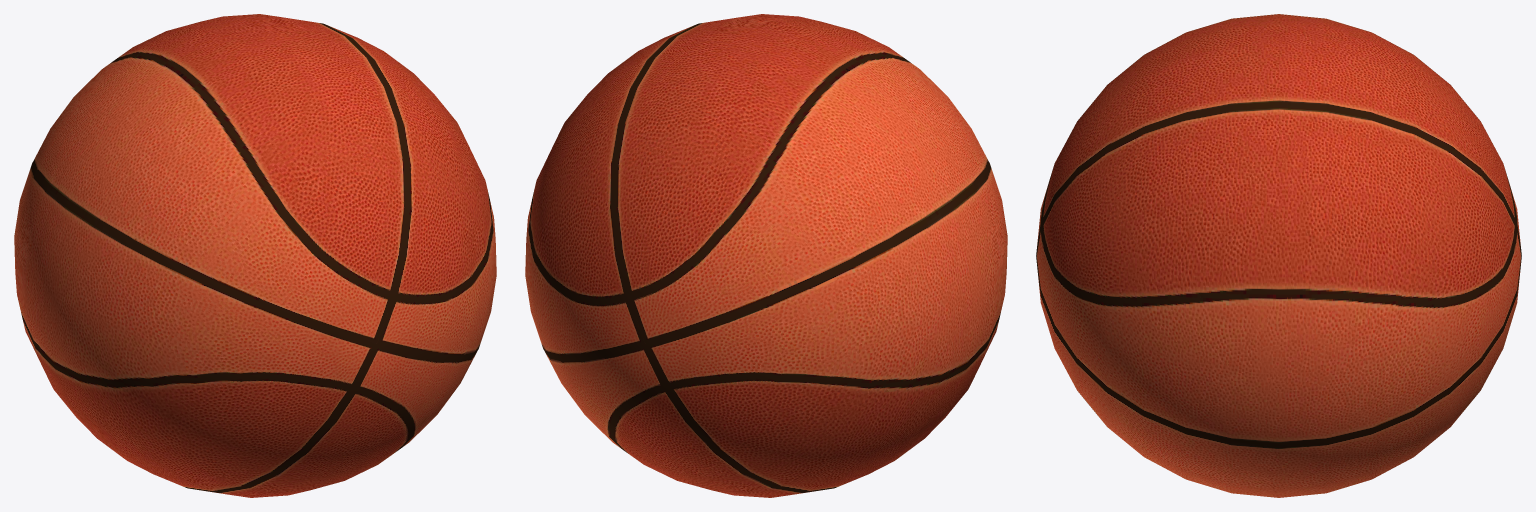
The model's file is bola.glb.
3 views of the same model, side by side, from view 1: azimuth 30°, elevation 25°; view 2: azimuth 150°, elevation 25°; view 3: azimuth 270°, elevation 25° (orthographic).
Visible parts, largest first — view 1: Object_2; view 2: Object_2; view 3: Object_2.
Part boxes in pixels (x1,y1,x2,y2): Object_2: [14, 14, 496, 497]; Object_2: [525, 14, 1007, 497]; Object_2: [1036, 14, 1521, 497].
Bounding box in the file's own units: 2.08 × 2.08 × 2.08.
Materials: 1 (1 with a texture image).
